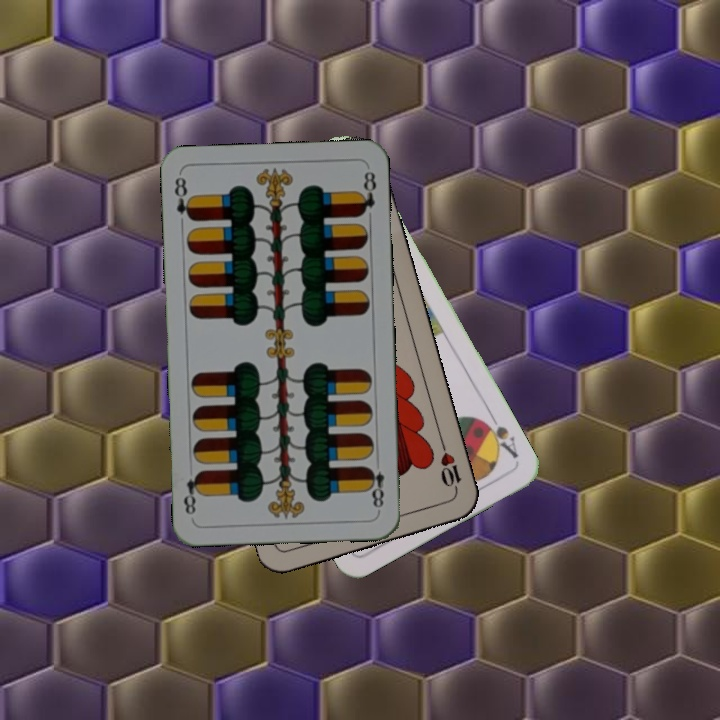E8: (170, 173, 196, 224), (364, 463, 387, 514)
H10: (436, 438, 465, 496)
SA: (477, 409, 521, 461)
